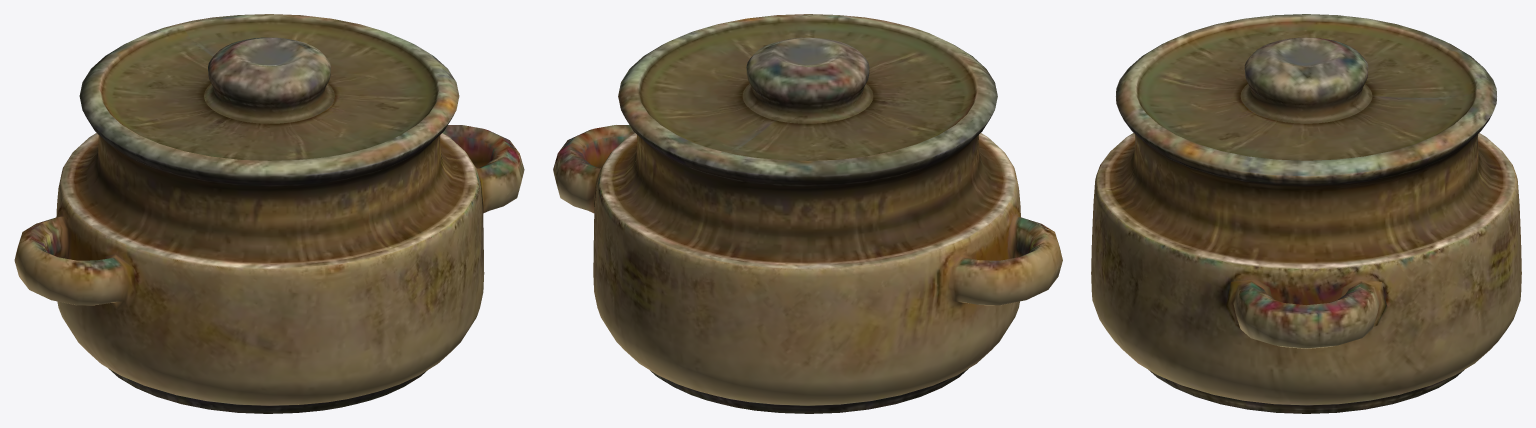
File: ceramic_pot.glb
The picture shows the model from 3 angles, left to right: view 1: azimuth 30°, elevation 25°; view 2: azimuth 150°, elevation 25°; view 3: azimuth 270°, elevation 25°; orthographic projection.
Parts seen in each view (by area): view 1: ceramic_pot; view 2: ceramic_pot; view 3: ceramic_pot.
Boxes of the visible parts, bbox=[...] form: ceramic_pot: bbox=[14, 14, 524, 413]; ceramic_pot: bbox=[553, 14, 1062, 413]; ceramic_pot: bbox=[1091, 14, 1521, 413].
Size of the model in its own units: 0.6563 by 0.3717 by 0.5018.
1 material, 1 textured.
